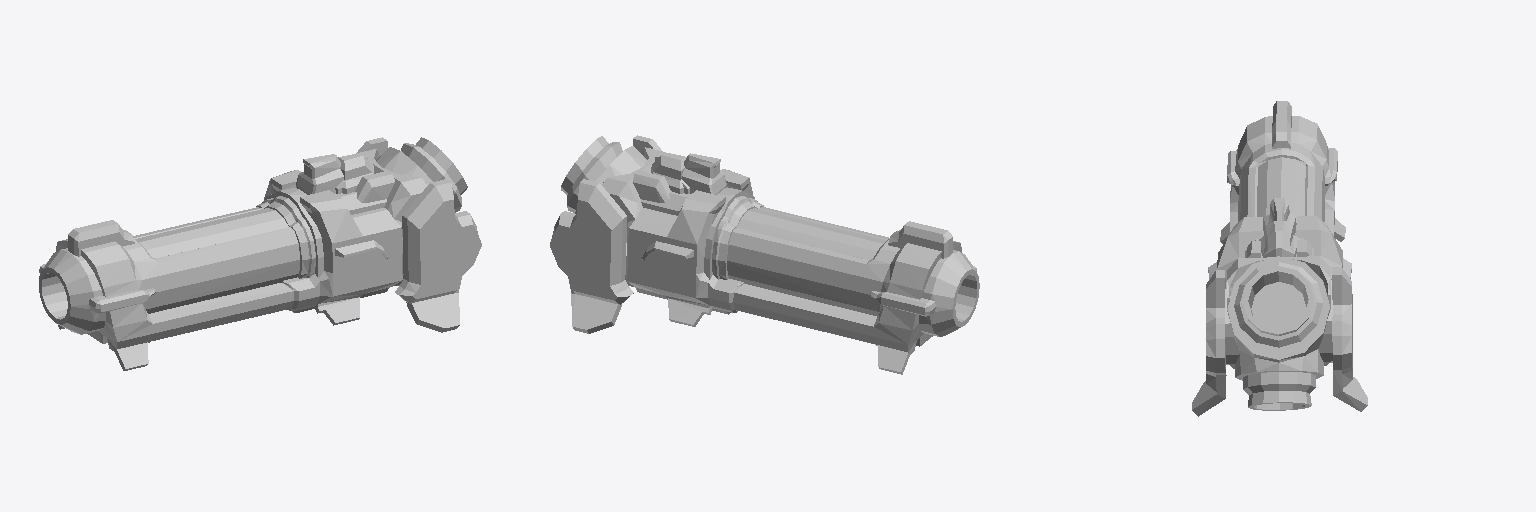
The model's file is Rocketlauncher.obj.
The picture shows the model from 3 angles: view 1: azimuth 30°, elevation 25°; view 2: azimuth 150°, elevation 25°; view 3: azimuth 270°, elevation 25°; orthographic projection.
Visible parts, largest first — view 1: RocketLauncher.001; view 2: RocketLauncher.001; view 3: RocketLauncher.001.
Boxes of the visible parts, x1=… form: RocketLauncher.001: x1=39, y1=137, x2=481, y2=370; RocketLauncher.001: x1=550, y1=135, x2=979, y2=374; RocketLauncher.001: x1=1192, y1=101, x2=1367, y2=416.
Bounding box in the file's own units: 107 × 41.88 × 40.61.